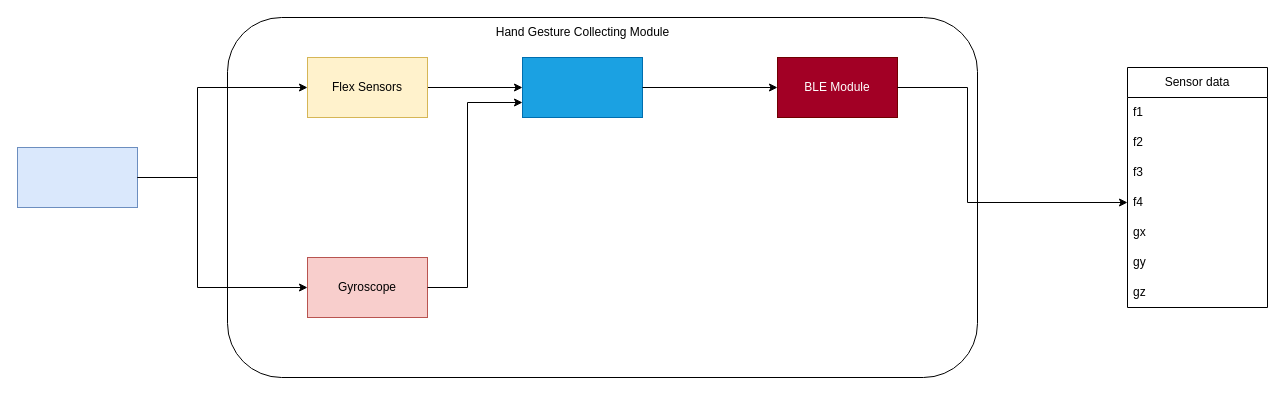
Image size: 1285x395. Some labels were removed from this diagram. Here are the shapes that lost their labels. From the top down, the centre of each, then its label:
point (582, 87): Arduino LilyPad
point (77, 177): Hand Gesture
